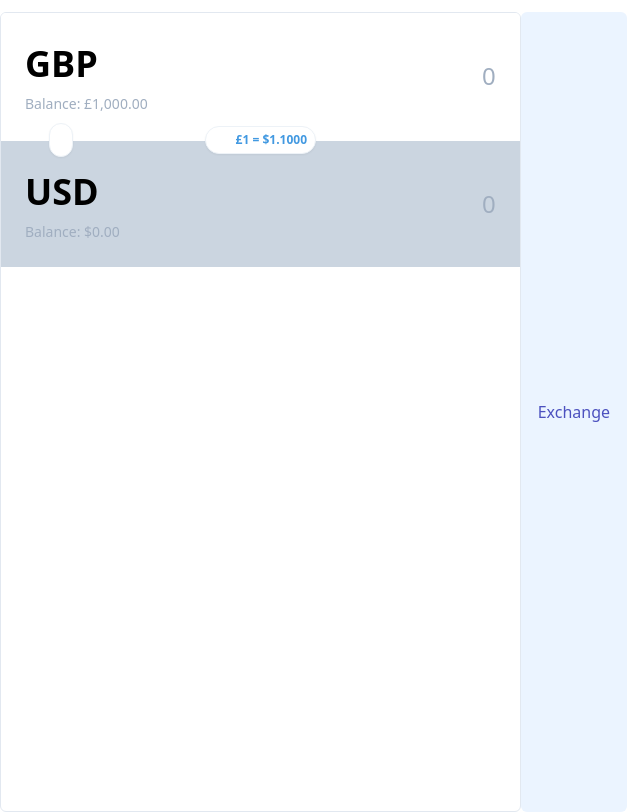
Test case: <Exchange /> › exchange GBP to USD
Expected: the text "Balance: £1,000.00" is shown, [25, 94, 148, 113]
Expected: the text "Balance: $0.00" is shown, [25, 222, 120, 241]
Type "100" into the 1st field with placeholder "0" at (322, 76), box [148, 58, 496, 94]
Wait 500 ms
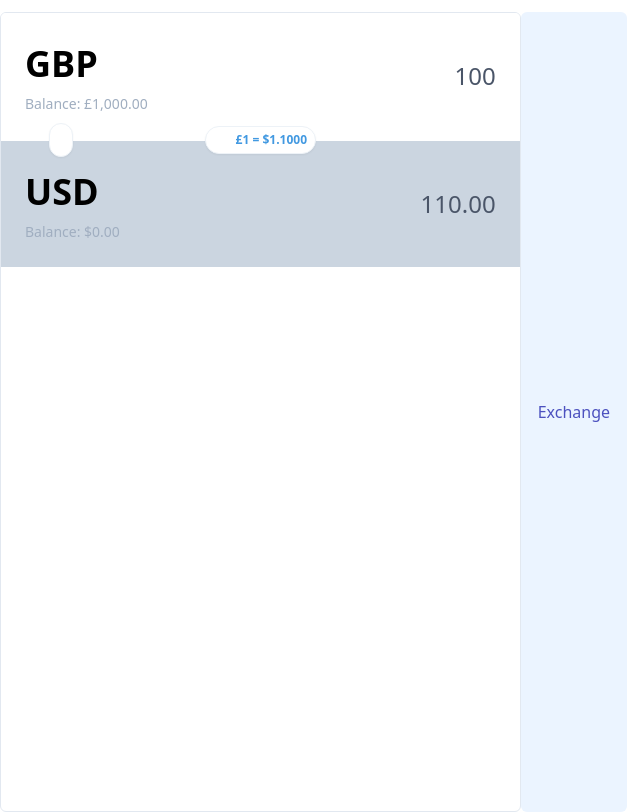
Result: the 2nd field showing "110.00" is shown at [148, 186, 496, 222]
Click the button "Exchange" at (574, 412), box [521, 12, 627, 811]
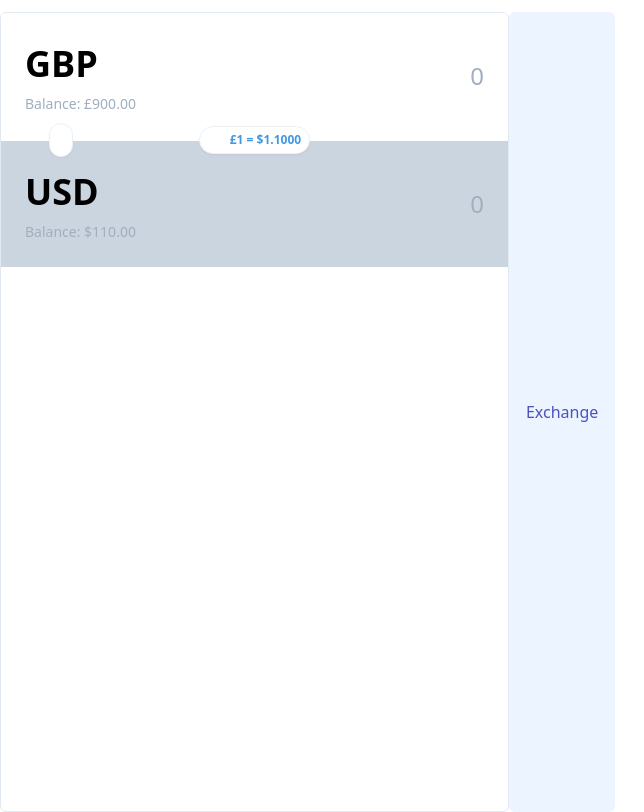
Result: the text "Balance: £900.00" is shown at [25, 94, 136, 113]
Result: the text "Balance: $110.00" is shown at [25, 222, 136, 241]
Result: the button "Exchange" is disabled at [509, 12, 615, 811]
